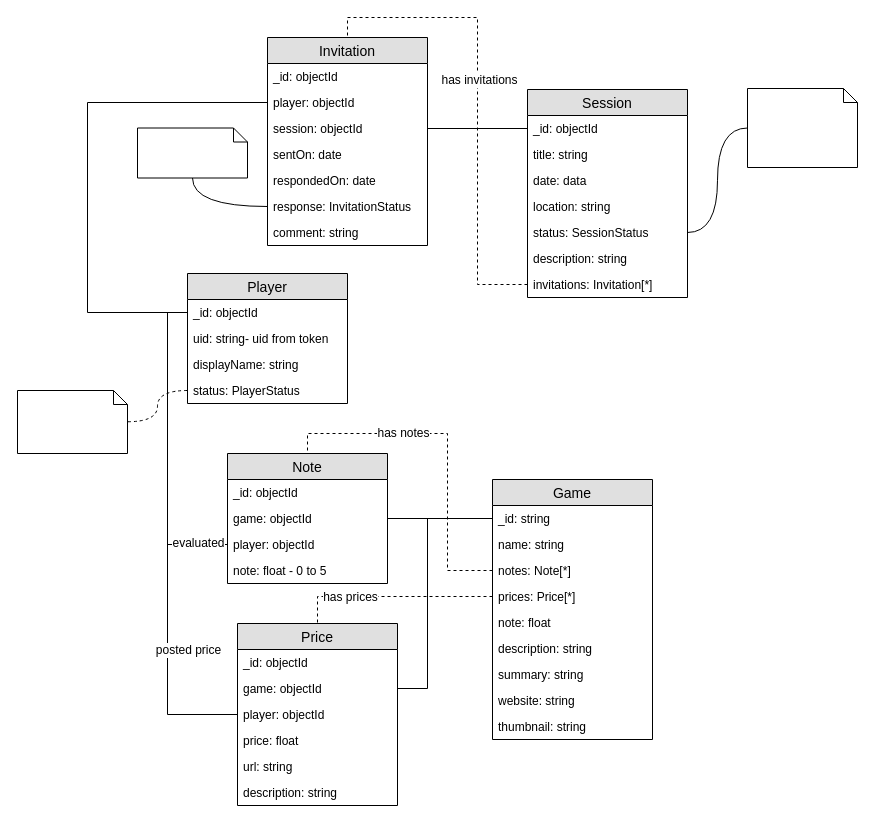
Some shapes in this 875 by 826 pixel diagram are drawn without their labels. Here are the shapes that lost their labels. From the top down, the centre of each, then its label:
At point 802,128: "DRAFT PROPOSED CANCELLED CONFIRMED PAST".
At point 192,152: "PENDING DECLINED ACCEPTED".
At point 72,422: "PENDING ACTIVE ARCHIVED BANNED".
